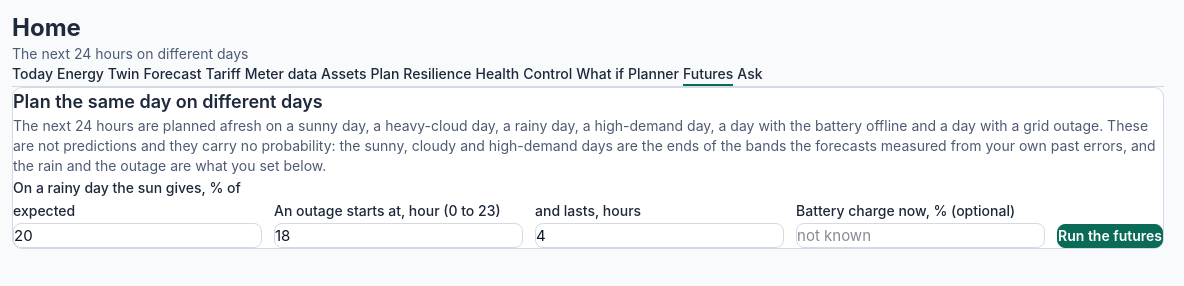
Test: FuturesView › refuses bad inputs without asking the server
Replace the text in the field labelled "An outage starts at, hour (0 to 23)" with "25" at (398, 235), box top-left (274, 222), bottom-right (523, 248)
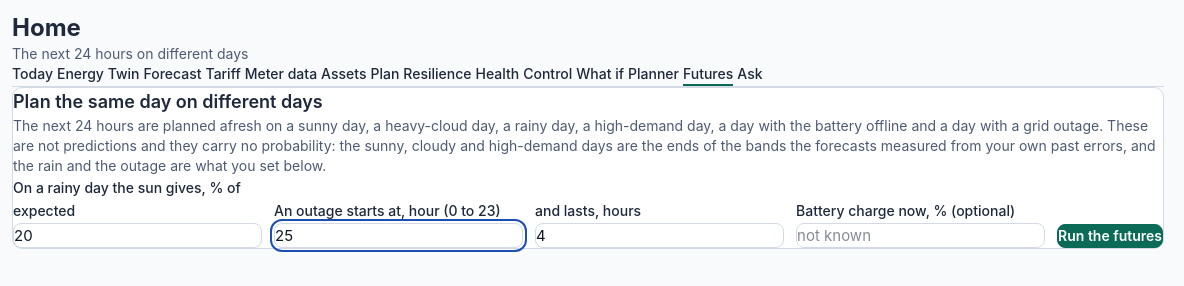
Click the button "Run the futures".
click(1110, 236)  # box top-left (1057, 224), bottom-right (1163, 248)
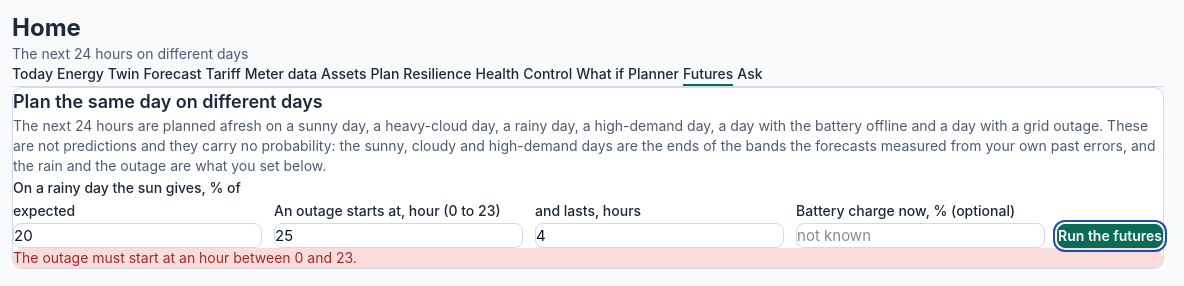
Result: the message shows "between 0 and 23" at top-left (13, 249), bottom-right (357, 266)
